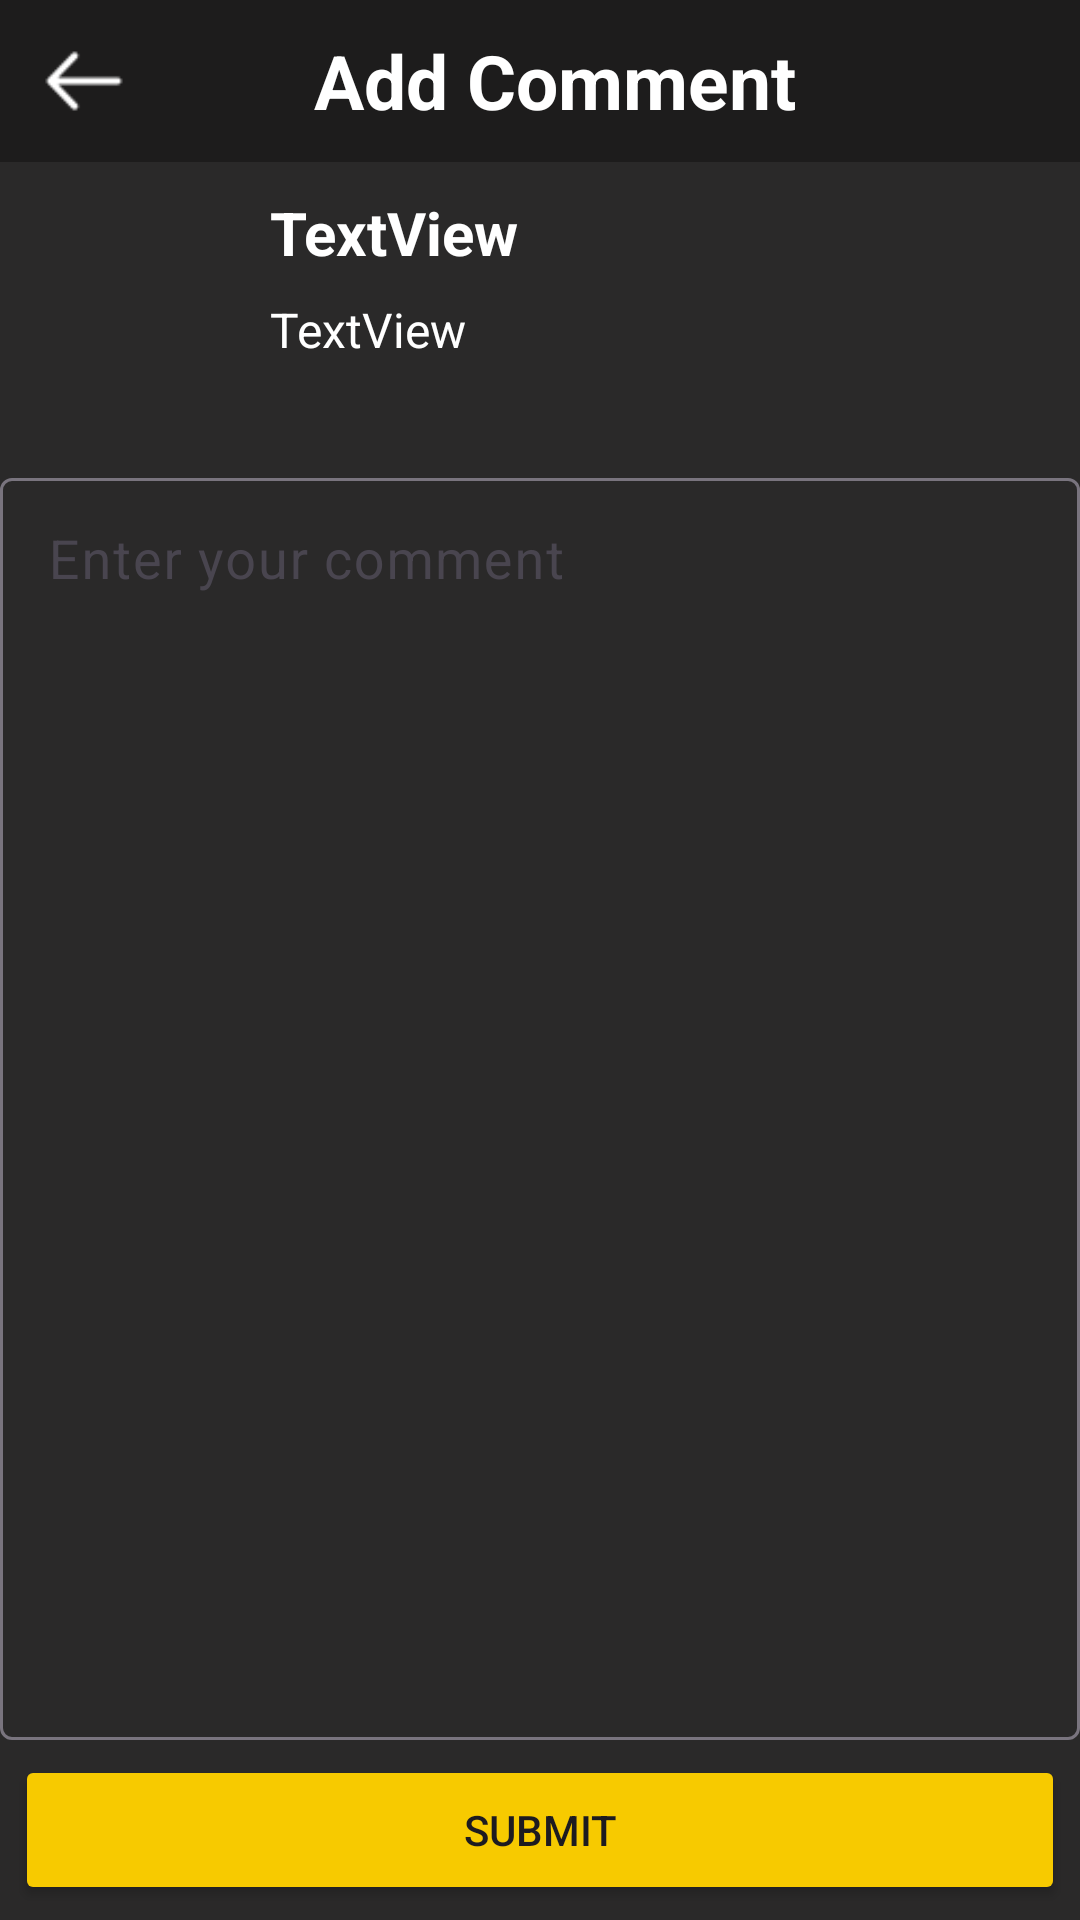

Icons on this 1080w x 1920h Android screen, each with the point to tap as [x,y]:
back arrow: [84,81]
